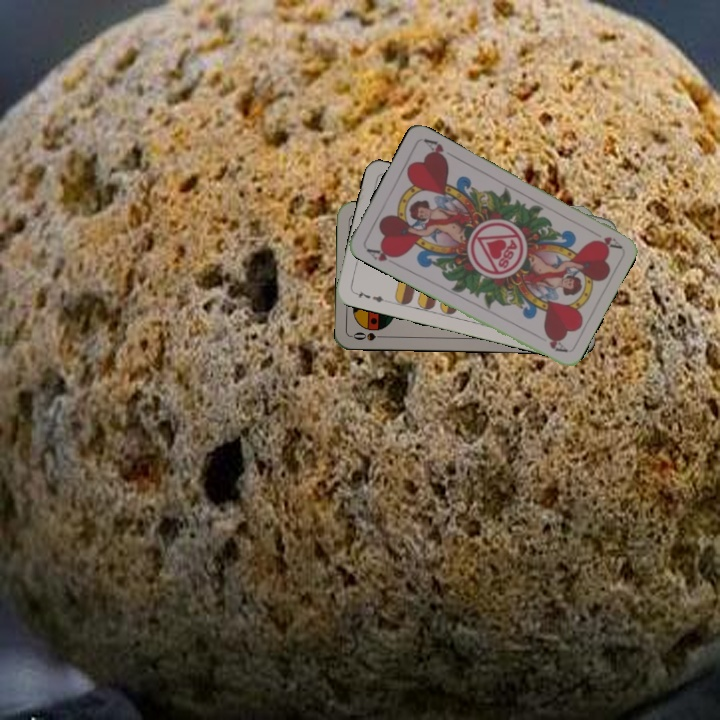E7: (350, 287, 390, 305)
HA: (585, 226, 623, 251), (362, 243, 402, 264)
SO: (349, 328, 390, 344)
